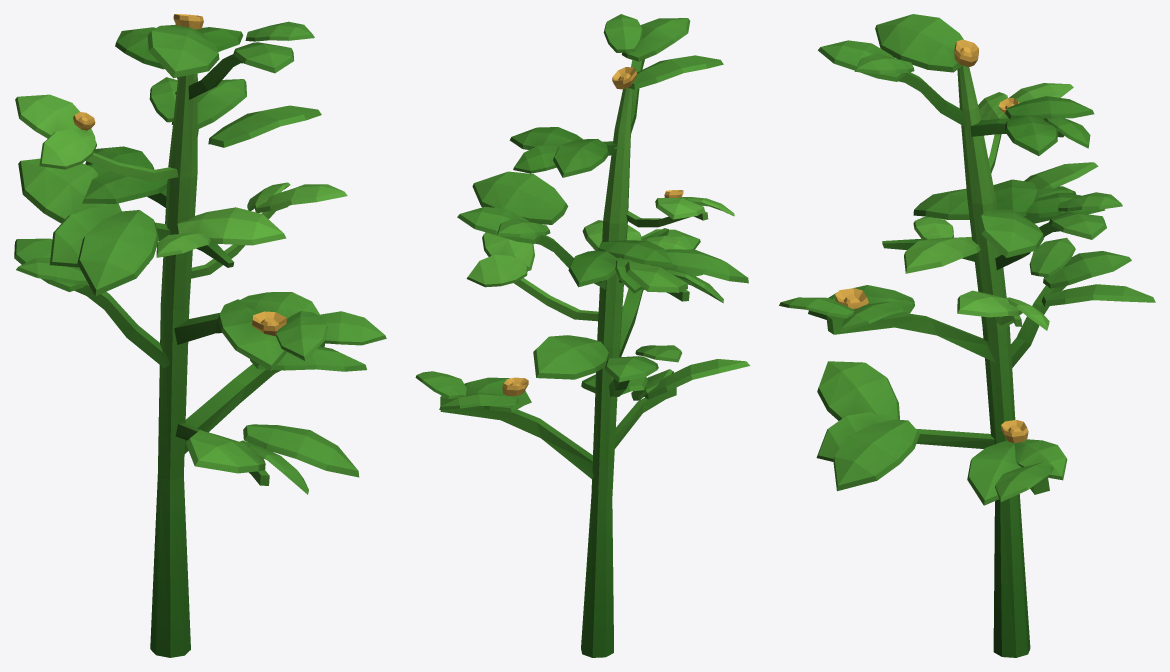
The model's file is crop_tomato_stage2.glb.
The picture shows the model from 3 angles, left to right: view 1: azimuth 30°, elevation 25°; view 2: azimuth 150°, elevation 25°; view 3: azimuth 270°, elevation 25°; orthographic projection. The views are drawn at different scales.
Parts seen in each view (by area): view 1: crop_tomato_stage2; view 2: crop_tomato_stage2; view 3: crop_tomato_stage2.
Boxes of the visible parts, x1,y1,x2,y2 form: crop_tomato_stage2: (14, 14, 386, 657); crop_tomato_stage2: (415, 14, 750, 657); crop_tomato_stage2: (779, 14, 1155, 657).
Size of the model in its own units: 0.3457 by 0.62 by 0.3466.
Materials: 1 (1 with a texture image).
